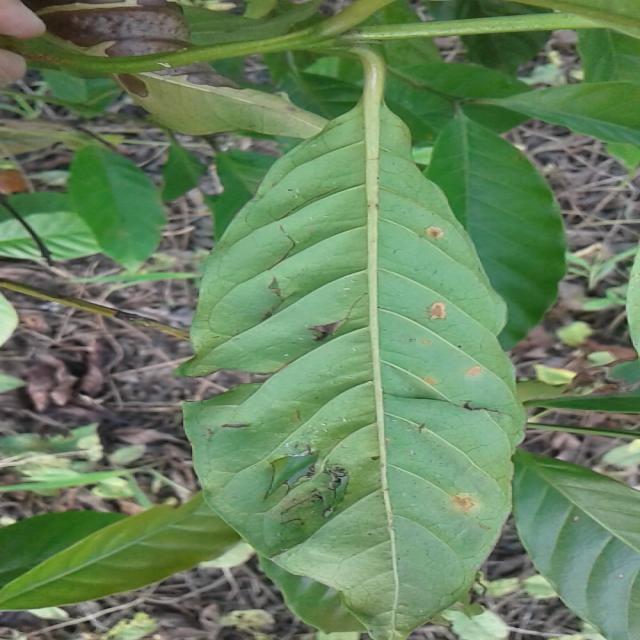Enfermedad-Roya: (178, 104, 525, 640)
